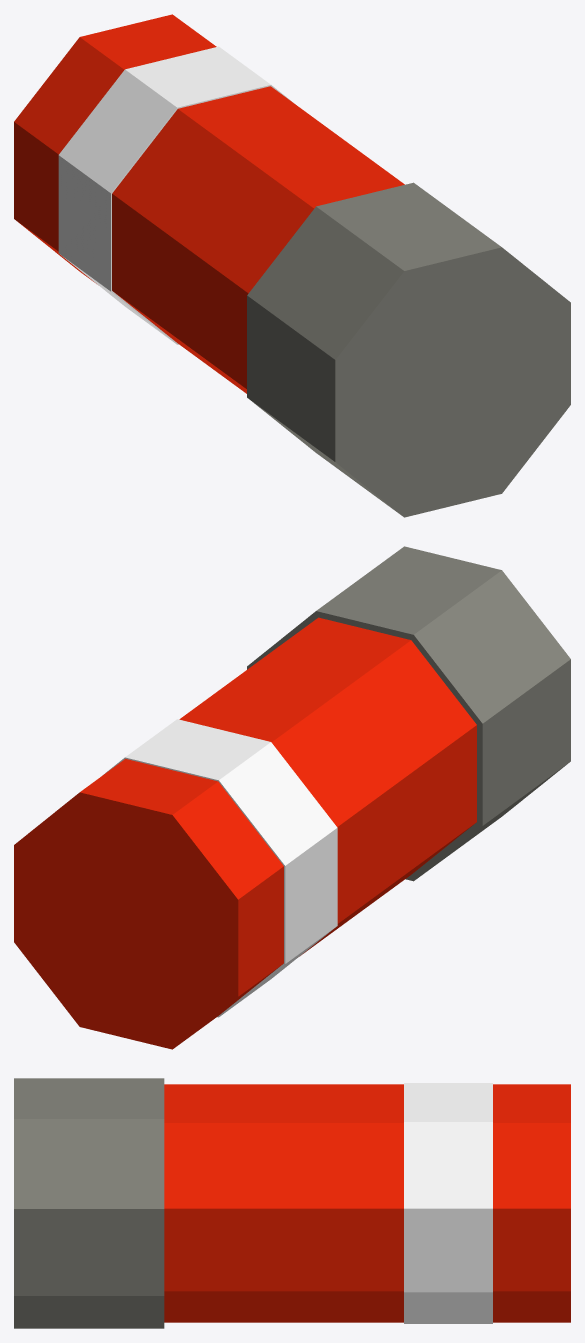
Rendered from ce_ammo_chshotgun_conc_a.obj.
3 views of the same model, one above another, from view 1: azimuth 30°, elevation 25°; view 2: azimuth 150°, elevation 25°; view 3: azimuth 270°, elevation 25° (orthographic). The views are drawn at different scales.
Visible parts, largest first — view 1: ce_ammo_chshotgun_conc_a_0, ce_ammo_chshotgun_conc_a_1, ce_ammo_chshotgun_conc_a_2, ce_ammo_chshotgun_conc_a_3; view 2: ce_ammo_chshotgun_conc_a_3, ce_ammo_chshotgun_conc_a_1, ce_ammo_chshotgun_conc_a_0, ce_ammo_chshotgun_conc_a_2; view 3: ce_ammo_chshotgun_conc_a_1, ce_ammo_chshotgun_conc_a_0, ce_ammo_chshotgun_conc_a_2, ce_ammo_chshotgun_conc_a_3.
Boxes of the visible parts, x1=… form: ce_ammo_chshotgun_conc_a_0: x1=247, y1=182, x2=570, y2=517; ce_ammo_chshotgun_conc_a_1: x1=112, y1=86, x2=404, y2=393; ce_ammo_chshotgun_conc_a_2: x1=58, y1=46, x2=293, y2=344; ce_ammo_chshotgun_conc_a_3: x1=14, y1=14, x2=216, y2=283; ce_ammo_chshotgun_conc_a_3: x1=14, y1=759, x2=283, y2=1049; ce_ammo_chshotgun_conc_a_1: x1=179, y1=617, x2=476, y2=956; ce_ammo_chshotgun_conc_a_0: x1=247, y1=546, x2=570, y2=881; ce_ammo_chshotgun_conc_a_2: x1=102, y1=719, x2=337, y2=1017; ce_ammo_chshotgun_conc_a_1: x1=164, y1=1084, x2=403, y2=1322; ce_ammo_chshotgun_conc_a_0: x1=14, y1=1078, x2=164, y2=1328; ce_ammo_chshotgun_conc_a_2: x1=404, y1=1083, x2=492, y2=1323; ce_ammo_chshotgun_conc_a_3: x1=493, y1=1084, x2=570, y2=1322.
Bounding box in the file's own units: 0.1746 × 0.1746 × 0.42.
